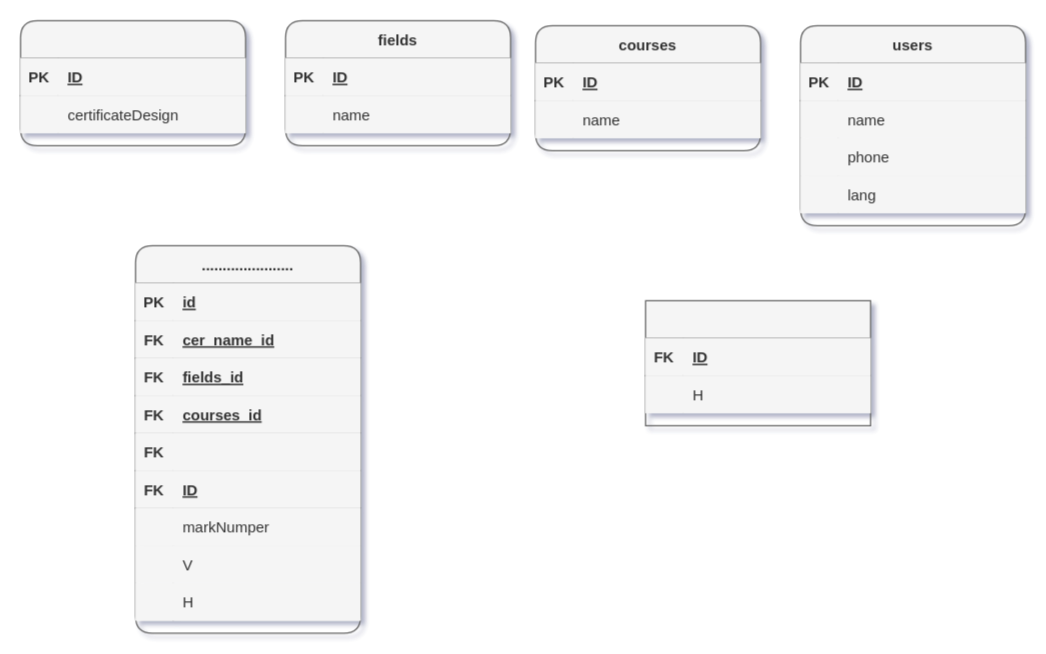
This 1046x654 diagram has some shape labels left out. Here are the shapes that lost their labels. From the top down, the box of each, then its label:
(19, 19, 246, 146): cer_name
(644, 299, 871, 426): courses_users
